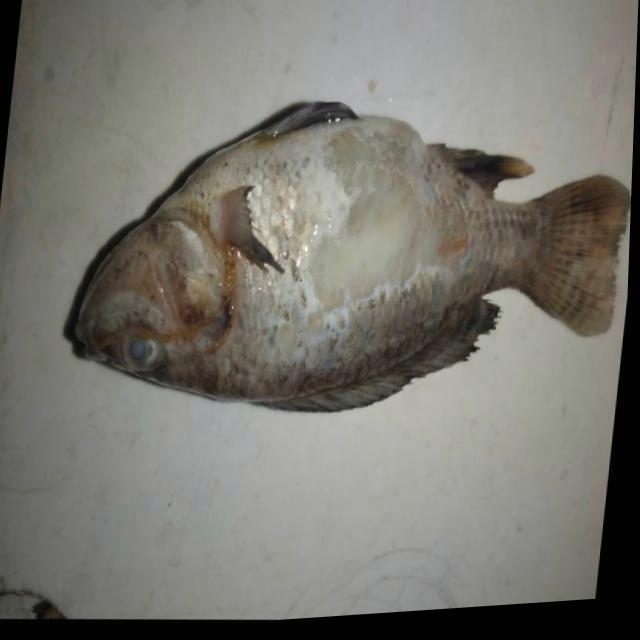fish: (70, 99, 624, 413)
